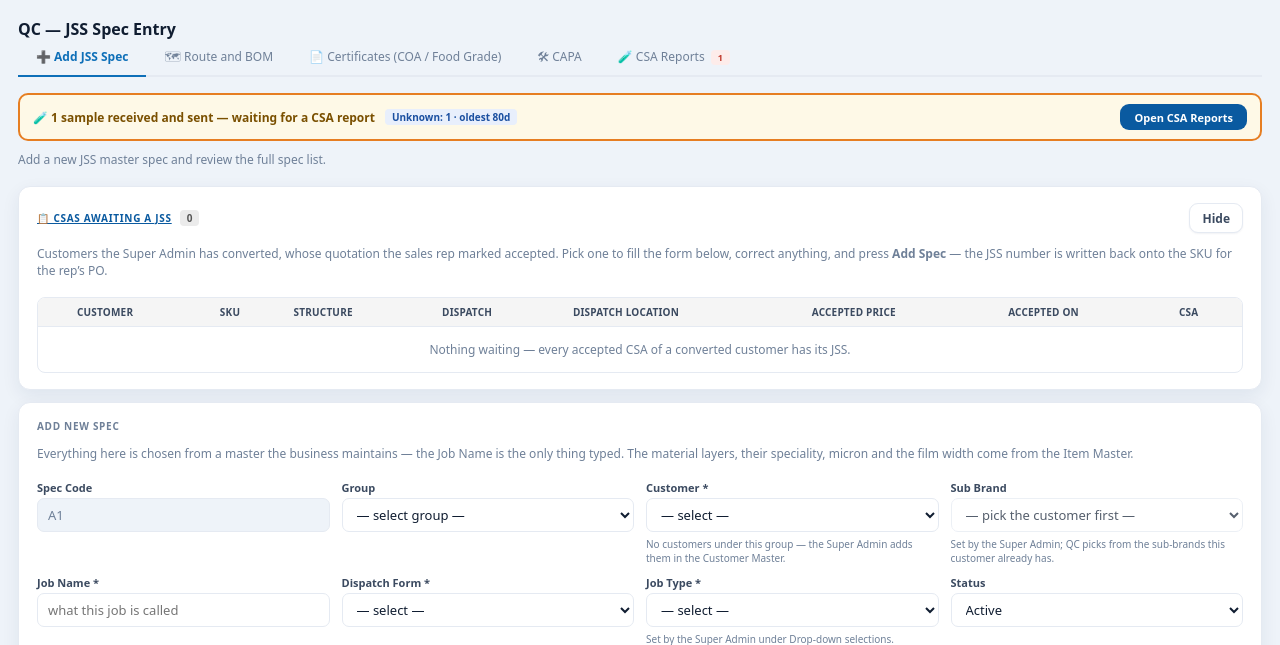
Direct CSA — micron is always a dropdown from the Item Master › a substrate with no micron anywhere offers every film / paper micron, with a note
Click the text "🧪 CSA Reports 1" at (674, 56), box [618,48,730,65]
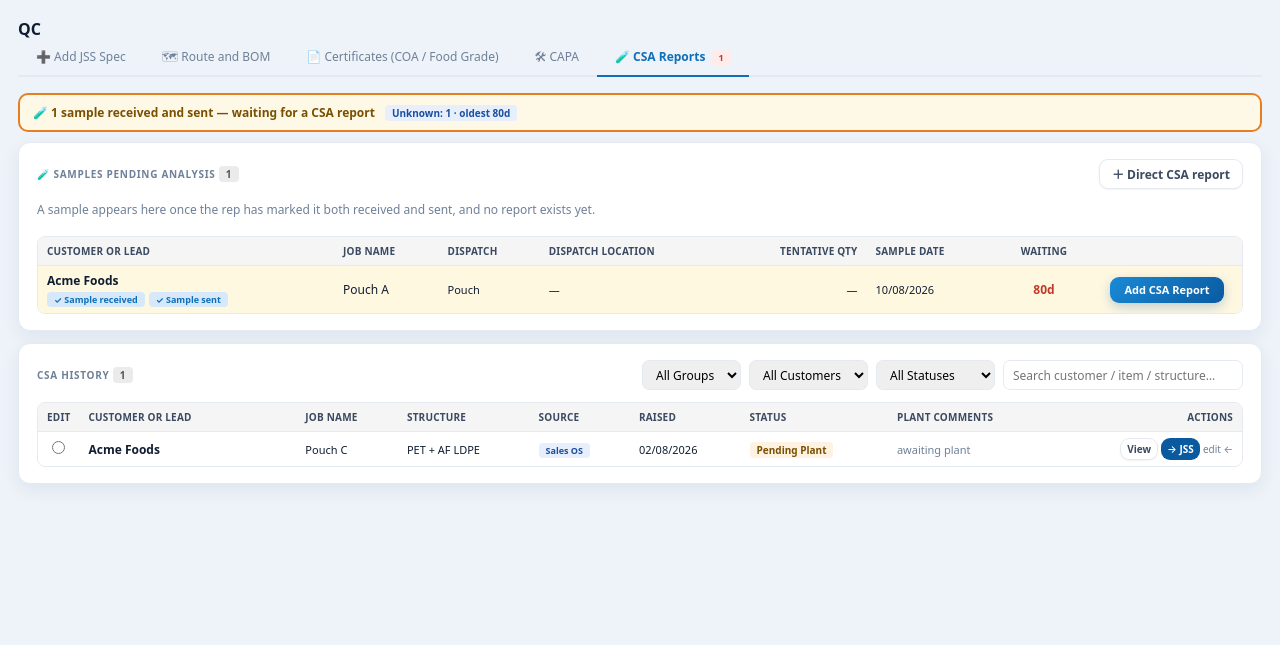
Click the button "＋ Direct CSA report" at (1171, 174), box [1099,159,1243,189]
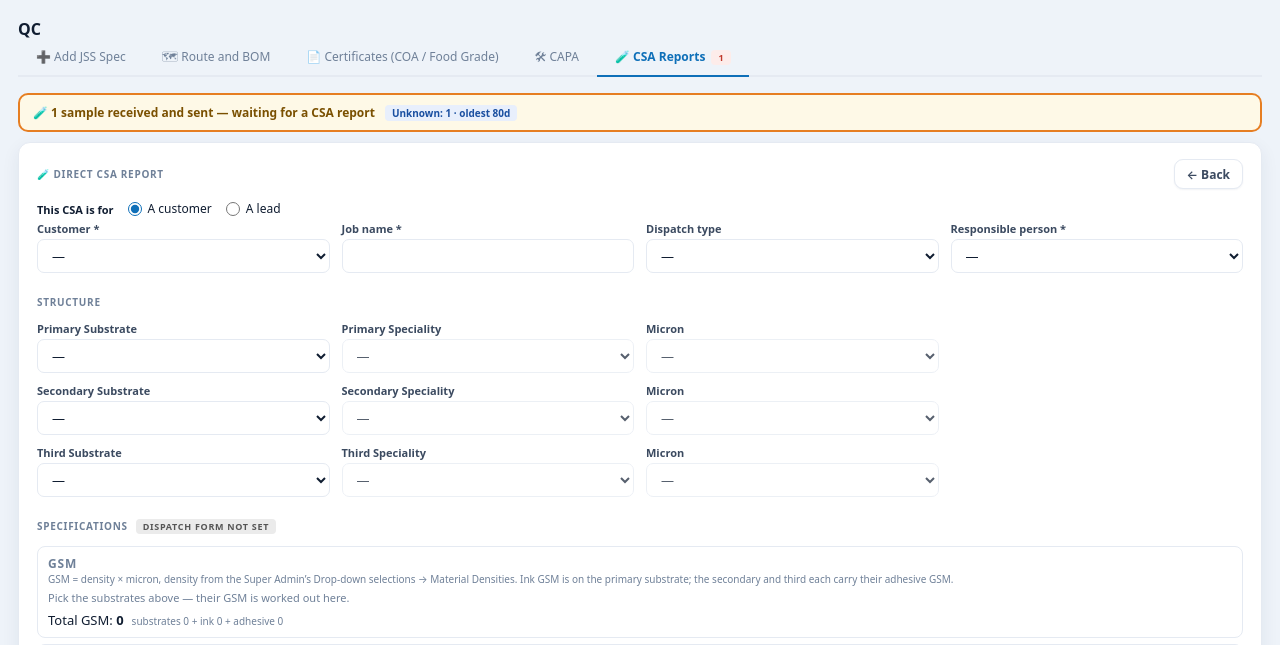
Select "KRAFT" in the dropdown named "Primary Substrate" at (183, 356), box [37,339,330,373]
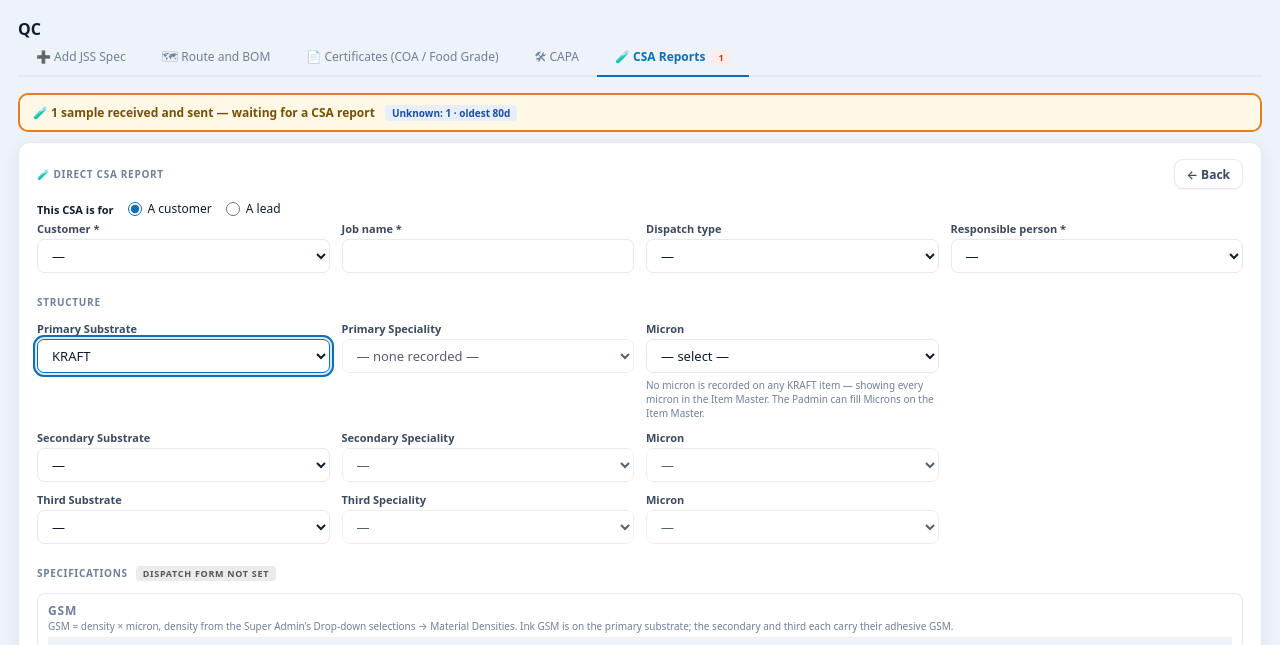
Expected: the text named "Primary micron note" shows "No micron is recorded on any KRAFT item", [646,378,934,420]
